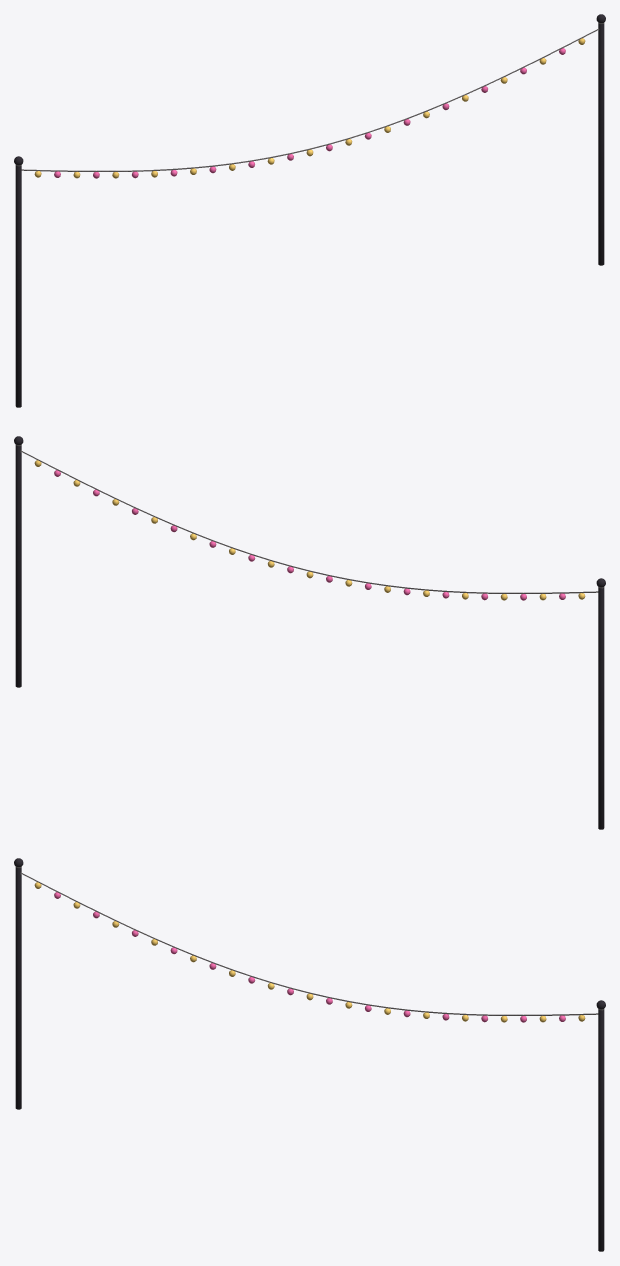
Rendered from sf_string_lights.fbx.
3 renders of one model, top to bottom at view 1: azimuth 30°, elevation 25°; view 2: azimuth 150°, elevation 25°; view 3: azimuth 330°, elevation 25°, orthographic.
Visible parts, largest first — view 1: sf_string_lights; view 2: sf_string_lights; view 3: sf_string_lights.
Part boxes in pixels (<box>): sf_string_lights: <box>14,14,605,407</box>; sf_string_lights: <box>14,436,605,829</box>; sf_string_lights: <box>14,858,605,1251</box>.
Bounding box in the file's own units: 17.24 × 6.97 × 0.24.
Materials: 3 (3 with a texture image).
